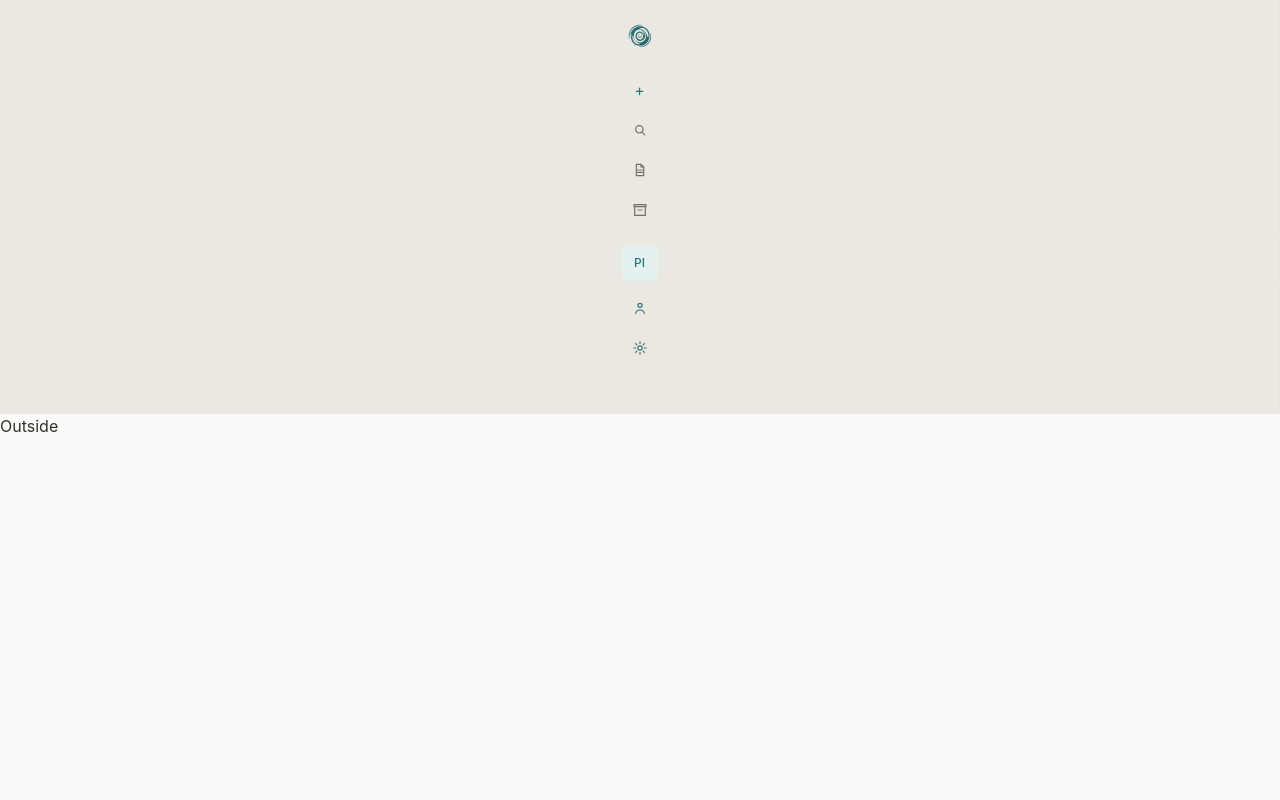
Test case: Library Rail › keeps the drawer available while a row deletion asks for confirmation
The image size is (1280, 800).
Click the button named "Articles". click: coordinates (640, 170)
box: 622,152 -> 658,188
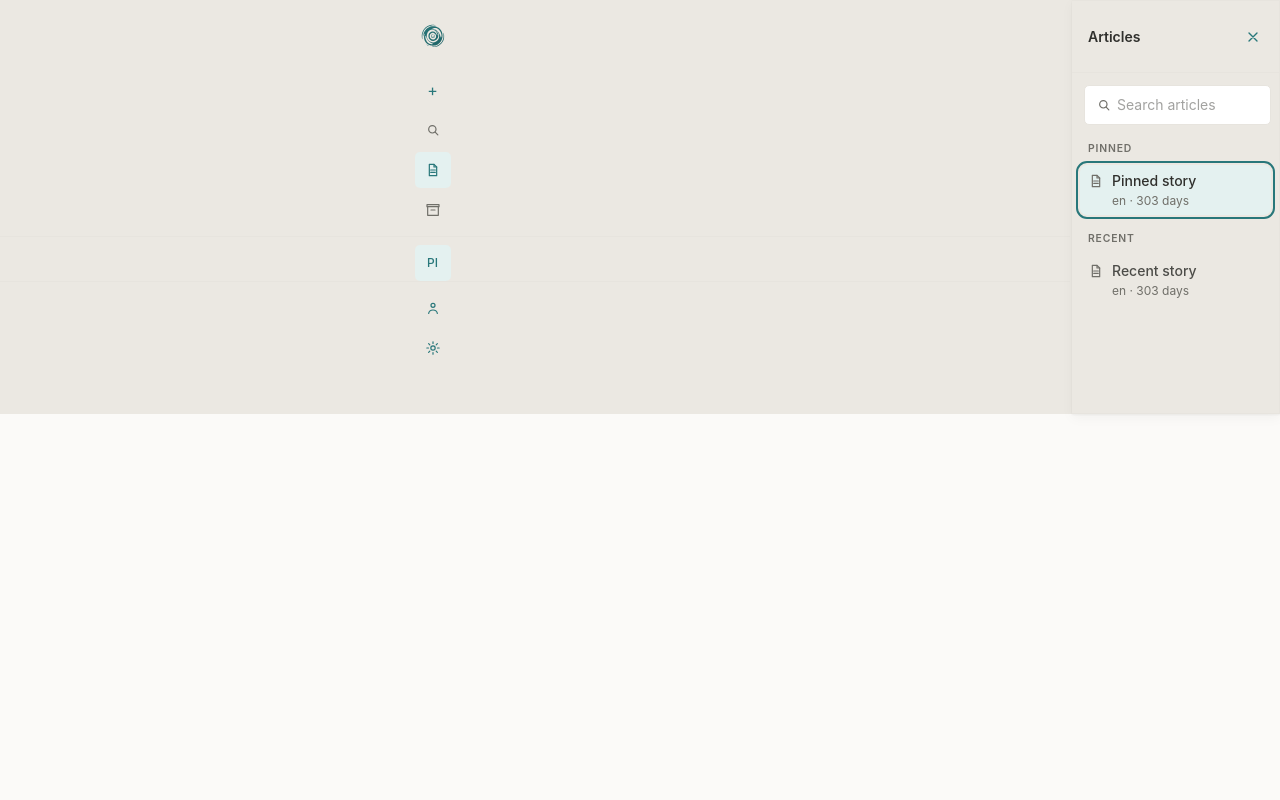
Right-click the button "Pinned story en · 303 days" at coordinates (1176, 190), box 1080,165 -> 1271,215
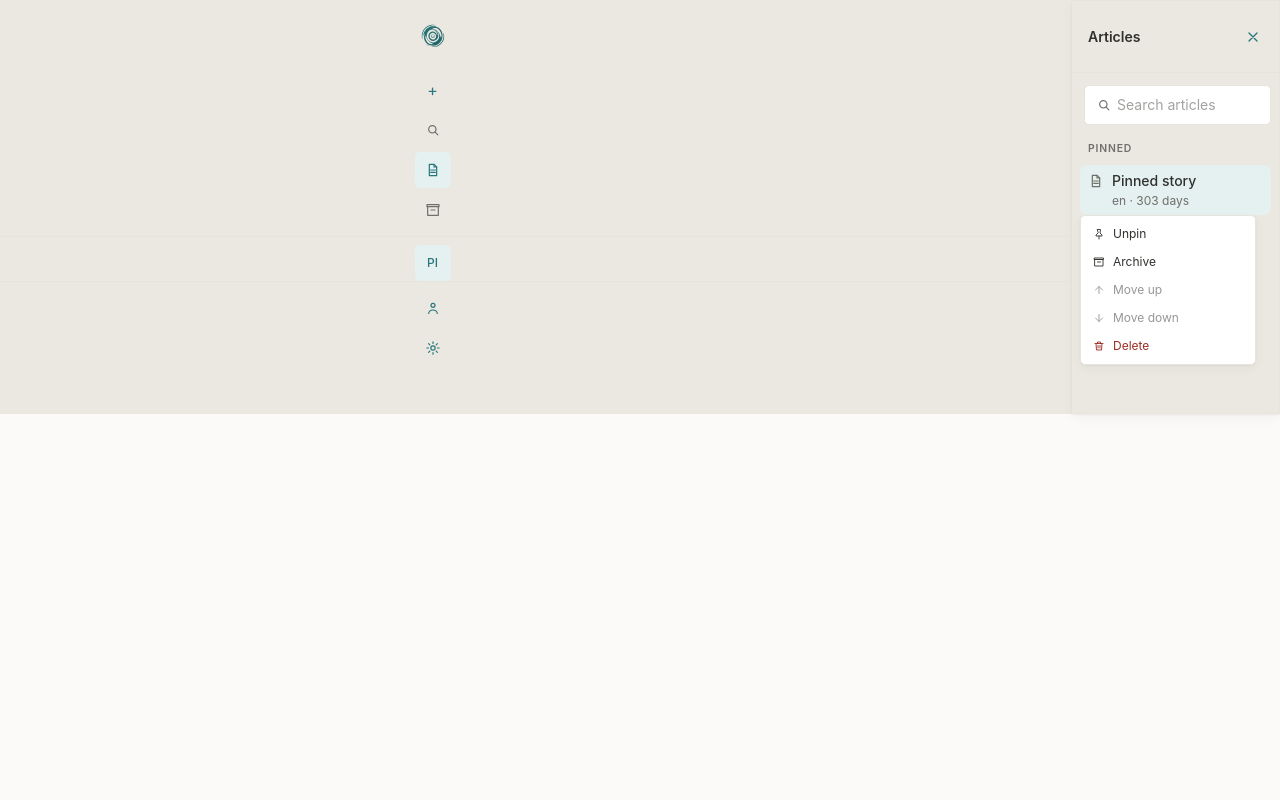
Click the menu item "Delete". click: coordinates (1168, 346)
box: 1085,332 -> 1251,360
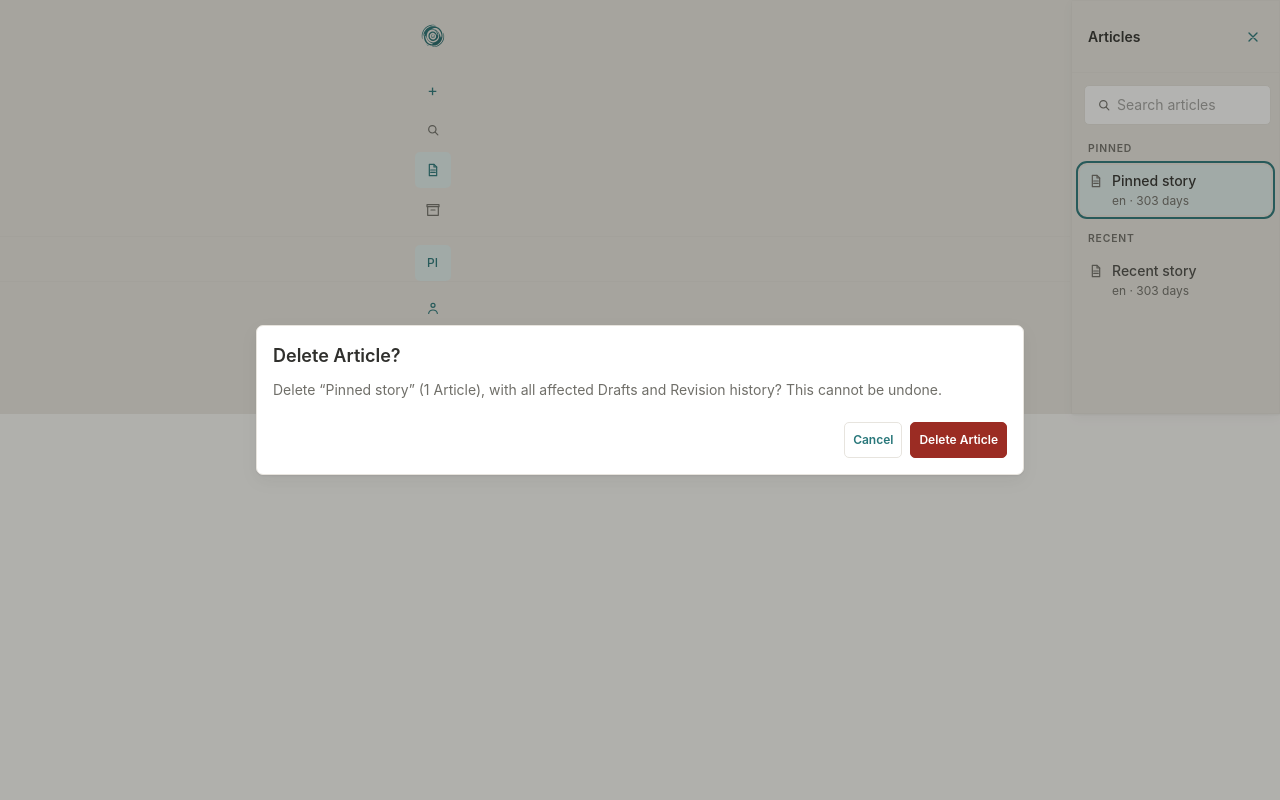
Click the button "Cancel". click: coordinates (873, 440)
box: 844,422 -> 902,458
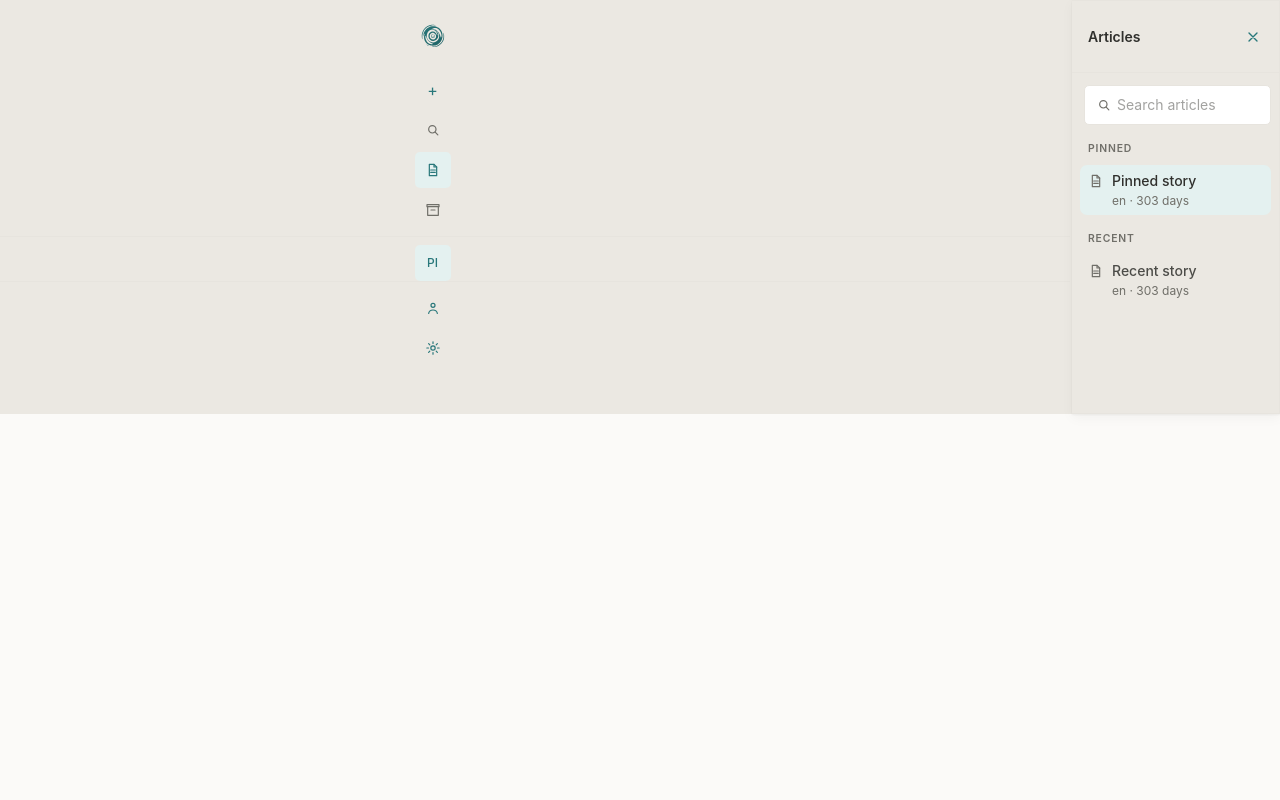
Now the navigation bar is shown, box 1080,142 -> 1271,305
Now the dialog is gone
